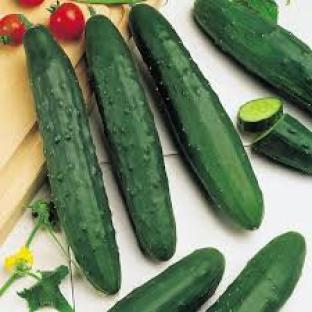Cucumber: (131, 5, 263, 228), (24, 25, 120, 293), (86, 16, 176, 260), (207, 232, 306, 311), (110, 249, 224, 311), (253, 114, 311, 174), (239, 98, 282, 131)
Tomato: (49, 3, 84, 40), (0, 14, 26, 45)
